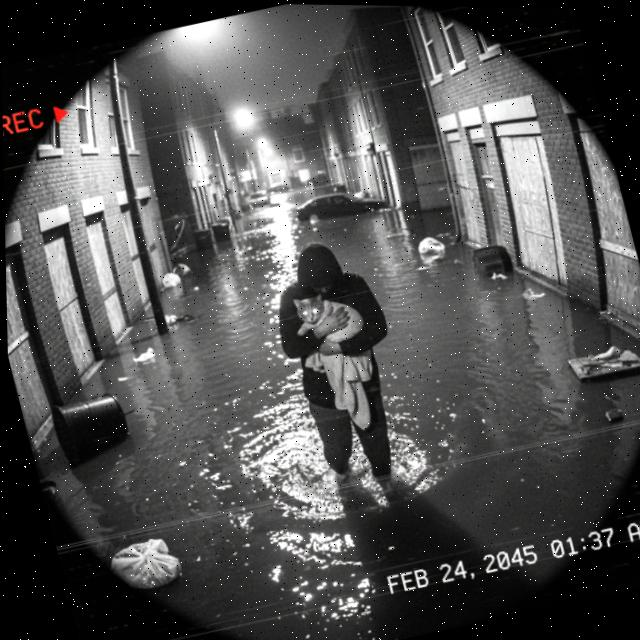cat: (287, 281, 385, 398)
civilian: (252, 222, 437, 510)
